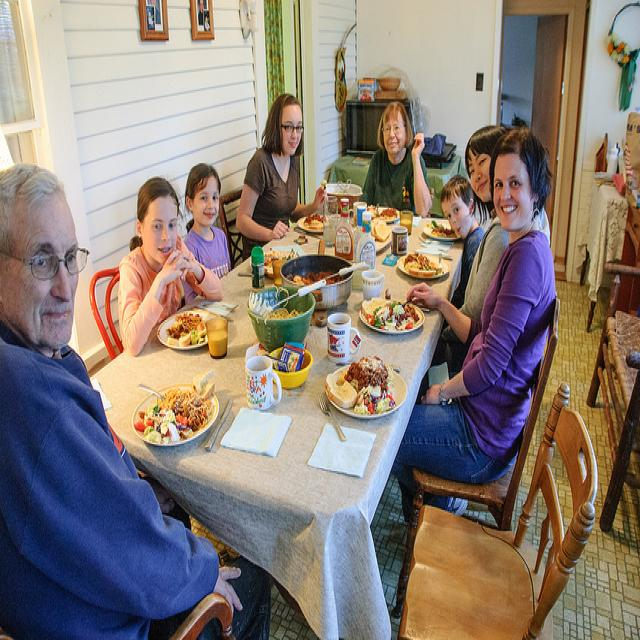chair: (395, 296, 562, 619), (398, 380, 598, 640), (586, 269, 640, 537), (169, 595, 236, 640), (91, 267, 122, 362), (220, 187, 244, 273)
dining table: (93, 194, 464, 538)
